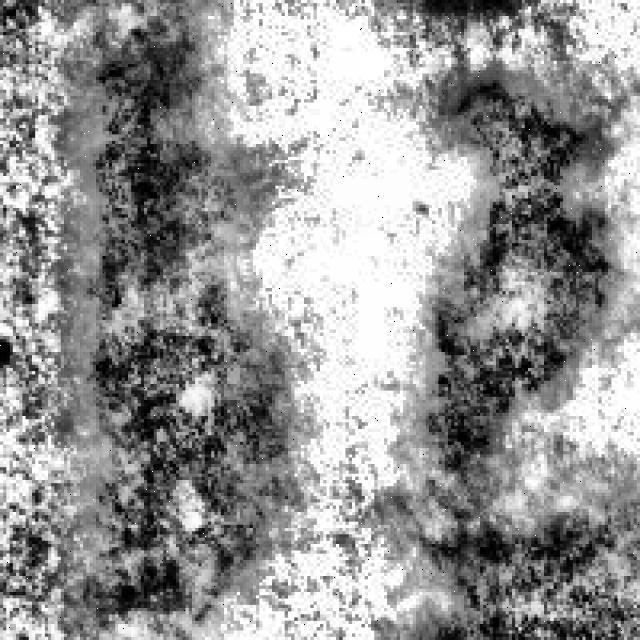Scratches: (77, 22, 304, 624), (410, 54, 630, 464), (406, 474, 640, 636)
